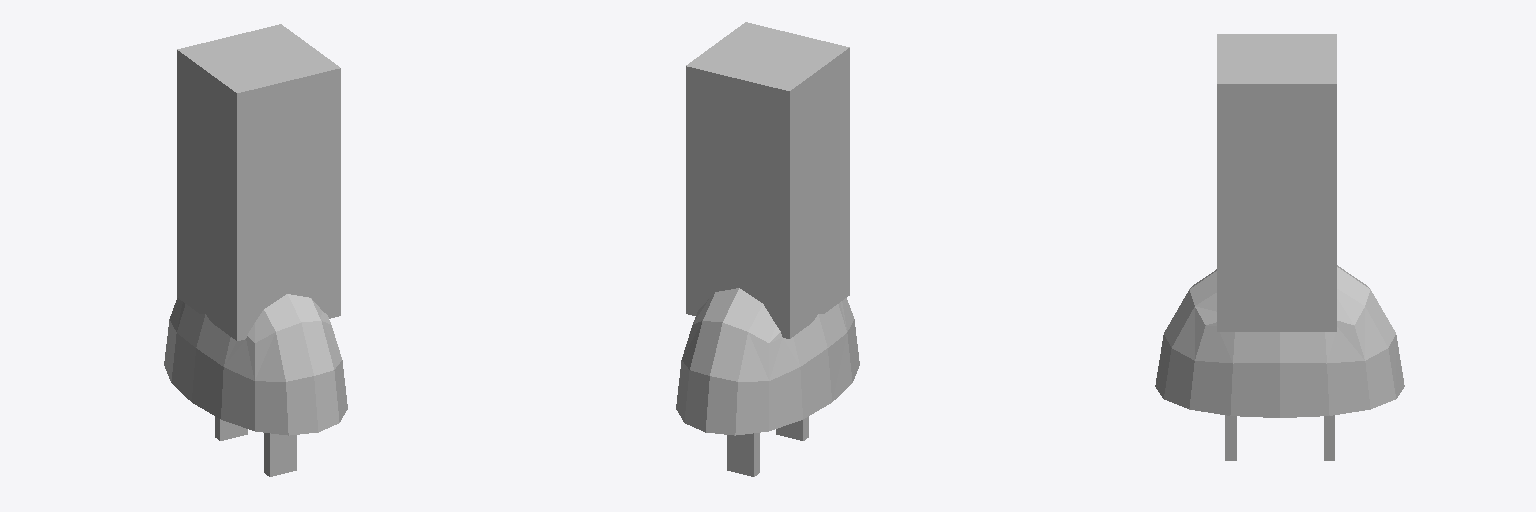
Rendered from pinandrope_end.obj.
The picture shows the model from 3 angles: view 1: azimuth 30°, elevation 25°; view 2: azimuth 150°, elevation 25°; view 3: azimuth 270°, elevation 25°; orthographic projection.
Visible parts, largest first — view 1: Cube; view 2: Cube; view 3: Cube.
Part boxes in pixels (left/top/right/bottom): Cube: left=164, top=24, right=347, bottom=476; Cube: left=676, top=22, right=859, bottom=476; Cube: left=1155, top=34, right=1404, bottom=460.
Size of the model in its own units: 0.1086 by 0.3193 by 0.1826.